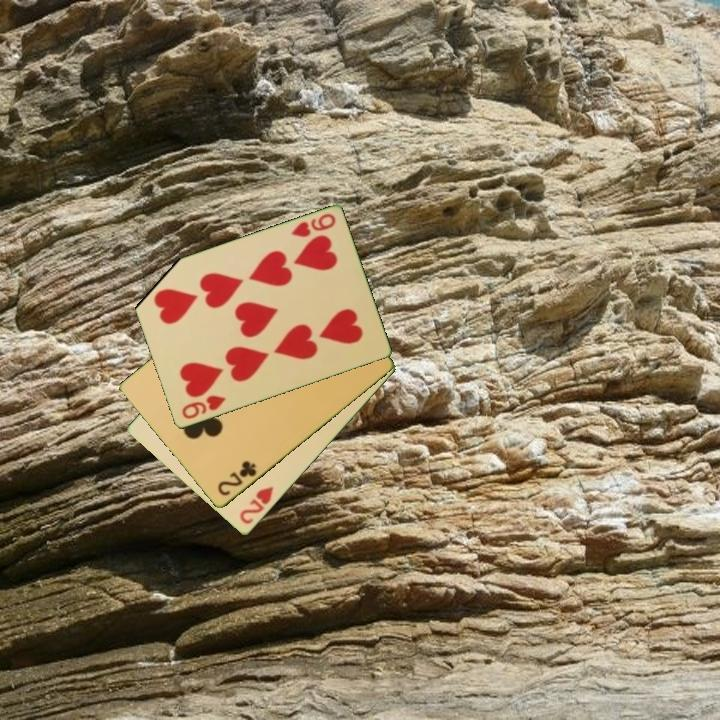2c: (214, 458, 259, 499)
2h: (236, 483, 277, 527)
9h: (287, 210, 339, 241), (178, 392, 228, 422)
